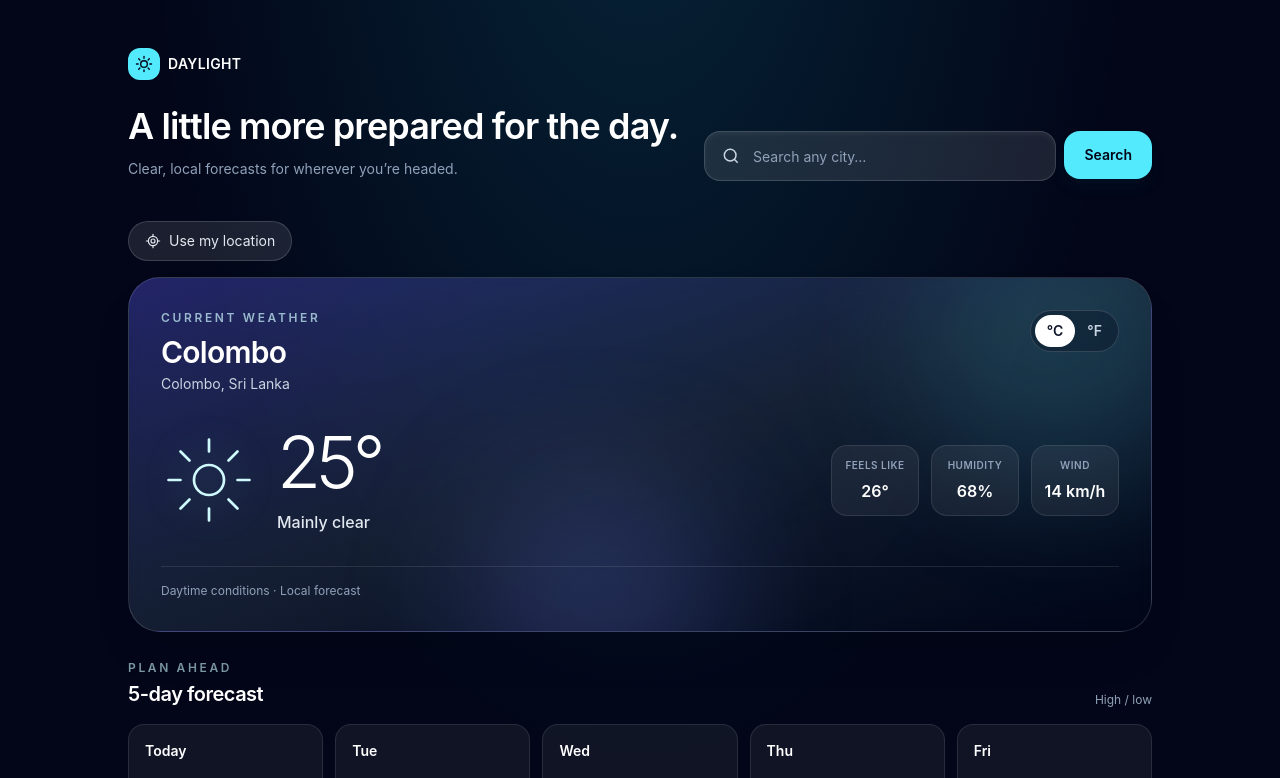
Scenario: use my location › explains when location access is denied and keeps the current forecast
Check: the heading "Colombo" is shown, box [161,334,286,370]
Click the button "Use my location" at (210, 241), box [128,221,292,261]
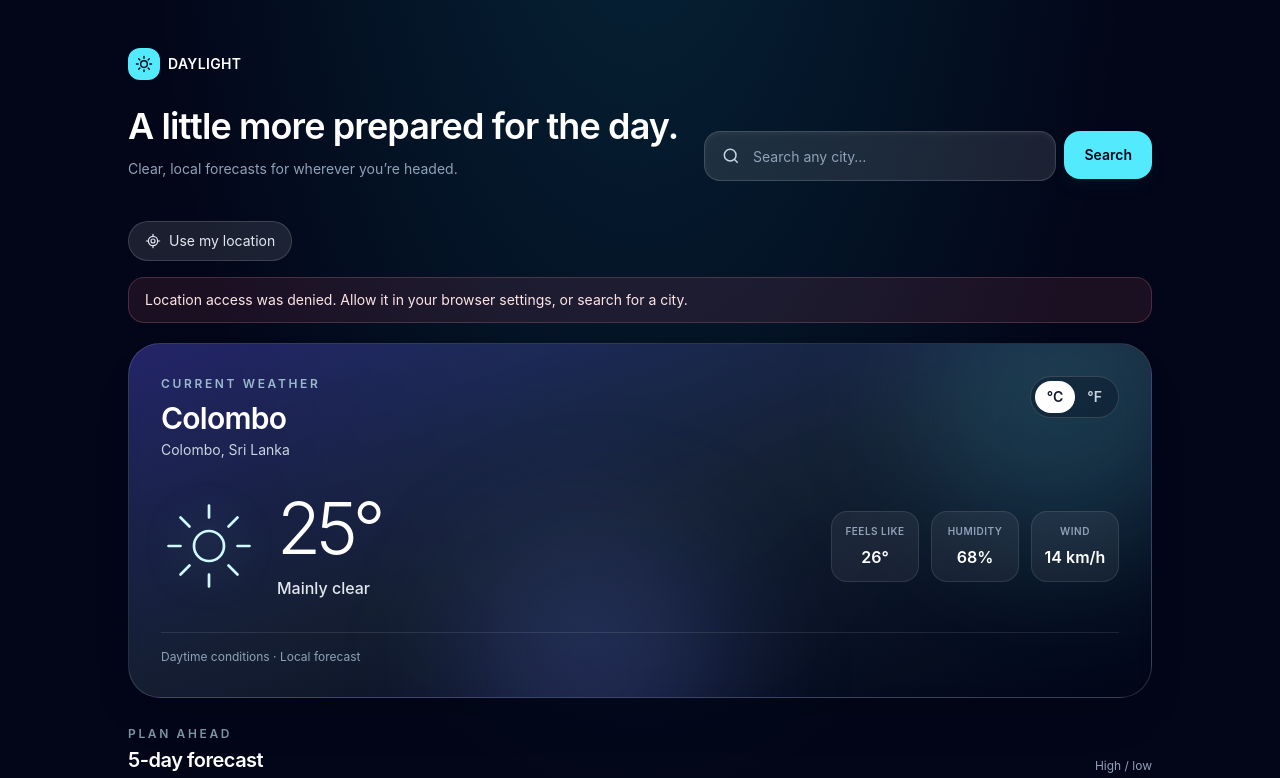
Check: the heading "Colombo" is shown, box [161,400,286,436]
Check: the message shows "Location access was denied", box [145,291,688,308]
